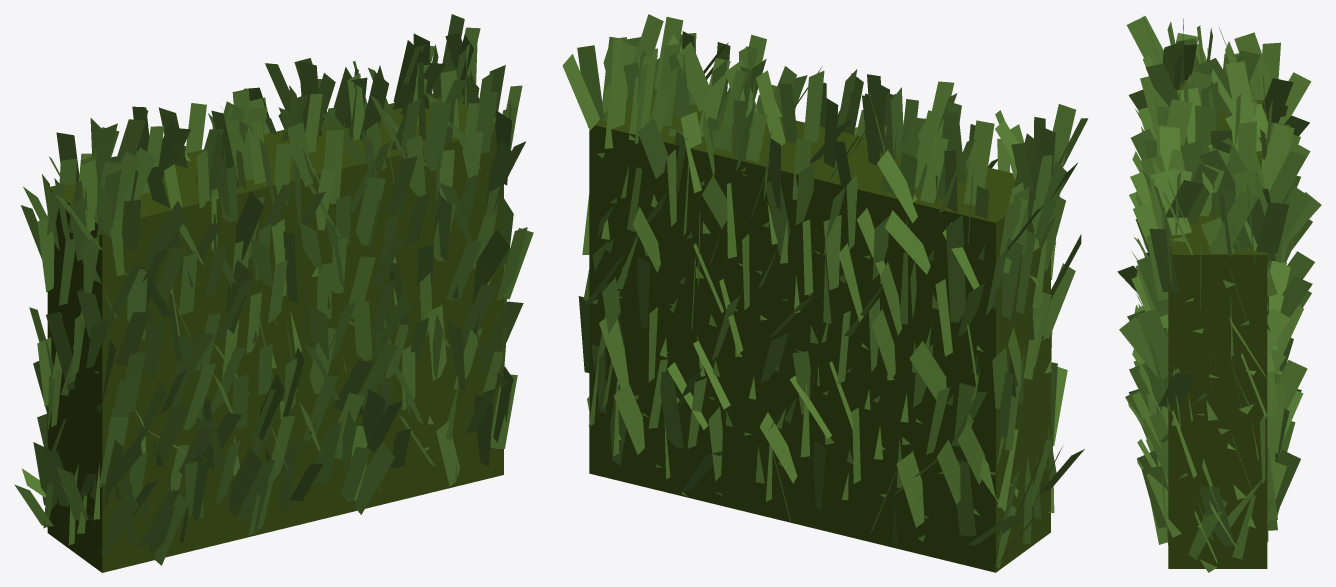
Rendered from wall_hedge_1.glb.
3 renders of one model, left to right at view 1: azimuth 30°, elevation 25°; view 2: azimuth 150°, elevation 25°; view 3: azimuth 270°, elevation 25°, orthographic. The views are drawn at different scales.
Visible parts, largest first — view 1: WallHedge1; view 2: WallHedge1; view 3: WallHedge1.
Boxes of the visible parts, left/top/right/bottom form: WallHedge1: left=14, top=14, right=533, bottom=572; WallHedge1: left=562, top=14, right=1088, bottom=572; WallHedge1: left=1117, top=15, right=1321, bottom=572.
Size of the model in its own units: 4.01 by 3.43 by 1.65.
